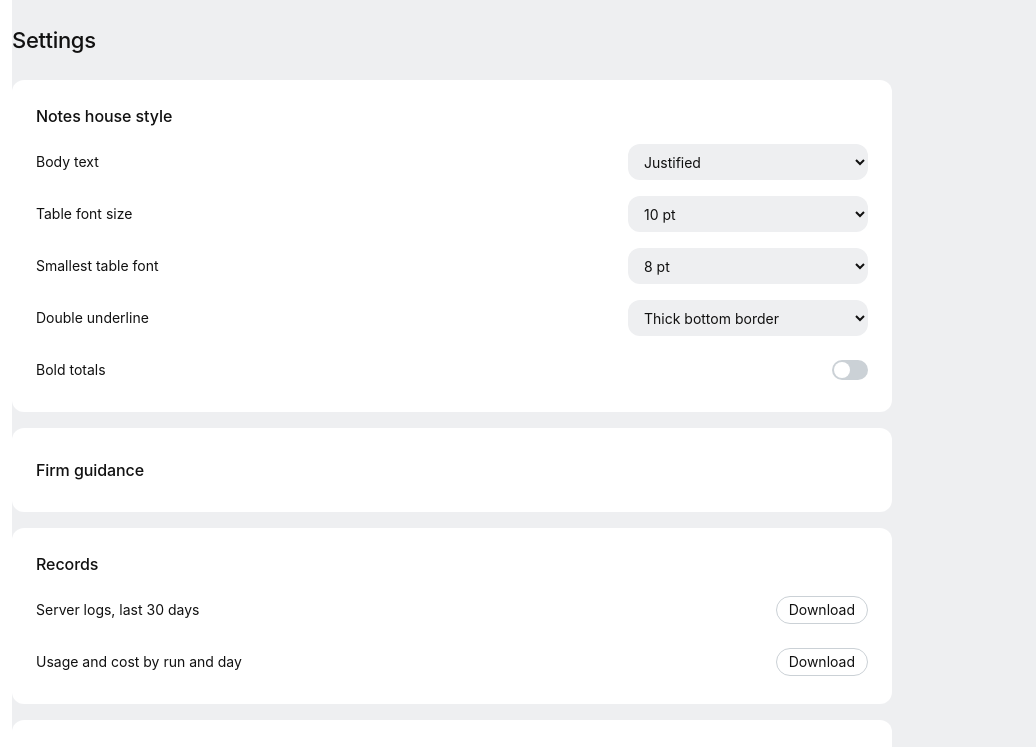
Settings page › shows the server's sentence when a save fails
The width and height of the screenshot is (1036, 747).
Click the switch named "Bold totals": (850, 370) [832,360,868,380]
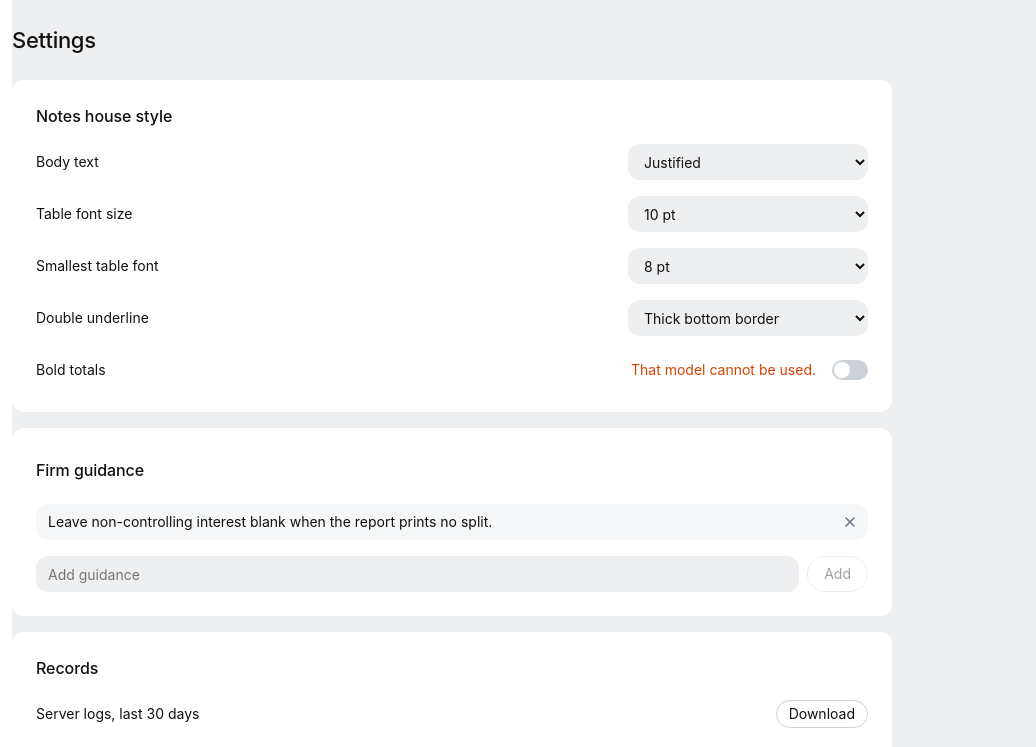
Result: the message reads "That model cannot be used." at [631,361,816,378]
